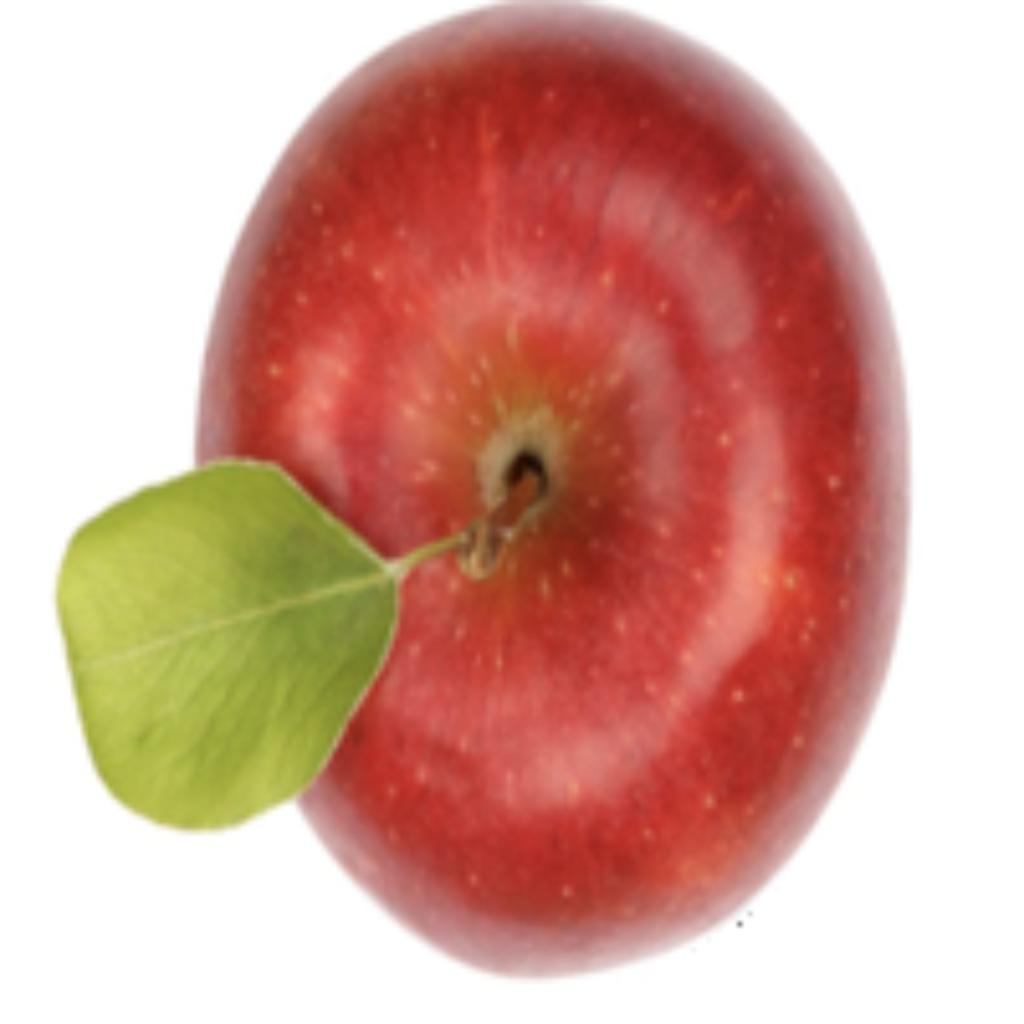apple: (46, 0, 916, 983)
